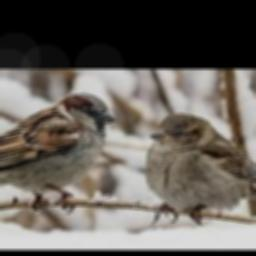Sparrow: (0, 93, 115, 214), (145, 113, 256, 227)
